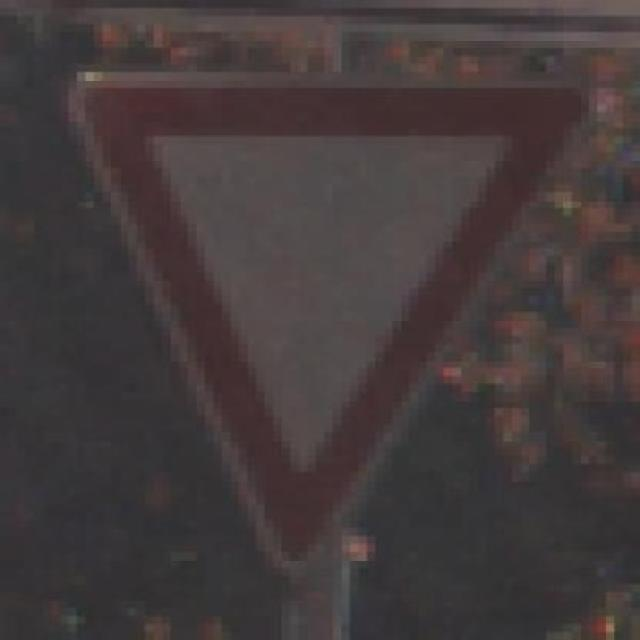Give Way: (68, 56, 606, 576)
